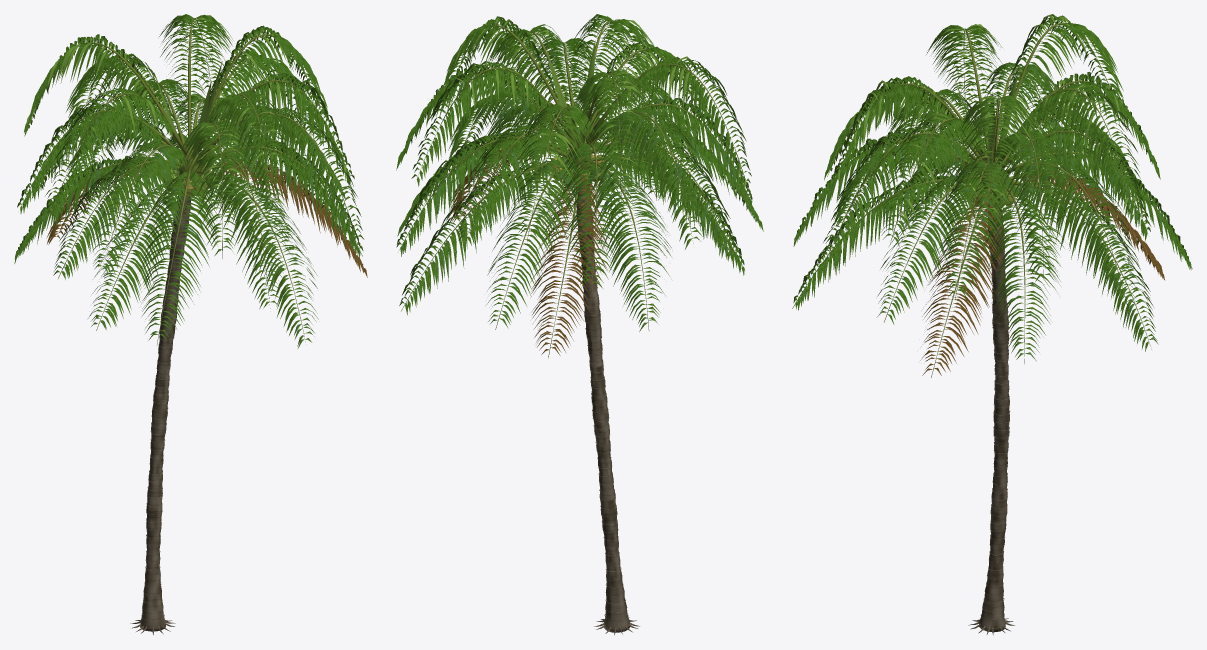
File: KL_LS_Coconut_Tall_A_LOD1.gltf
3 renders of one model, left to right at view 1: azimuth 30°, elevation 25°; view 2: azimuth 150°, elevation 25°; view 3: azimuth 270°, elevation 25°, orthographic. The views are drawn at different scales.
Parts seen in each view (by area): view 1: TF3_KL_LS_Coconut_Tall_A_LOD1; view 2: TF3_KL_LS_Coconut_Tall_A_LOD1; view 3: TF3_KL_LS_Coconut_Tall_A_LOD1.
Part boxes in pixels (bbox=[...]): TF3_KL_LS_Coconut_Tall_A_LOD1: bbox=[14, 14, 367, 634]; TF3_KL_LS_Coconut_Tall_A_LOD1: bbox=[396, 14, 763, 635]; TF3_KL_LS_Coconut_Tall_A_LOD1: bbox=[792, 14, 1192, 635].
Bounding box in the file's own units: 8.46 × 14.75 × 9.04.
Materials: 9 (3 with a texture image).
